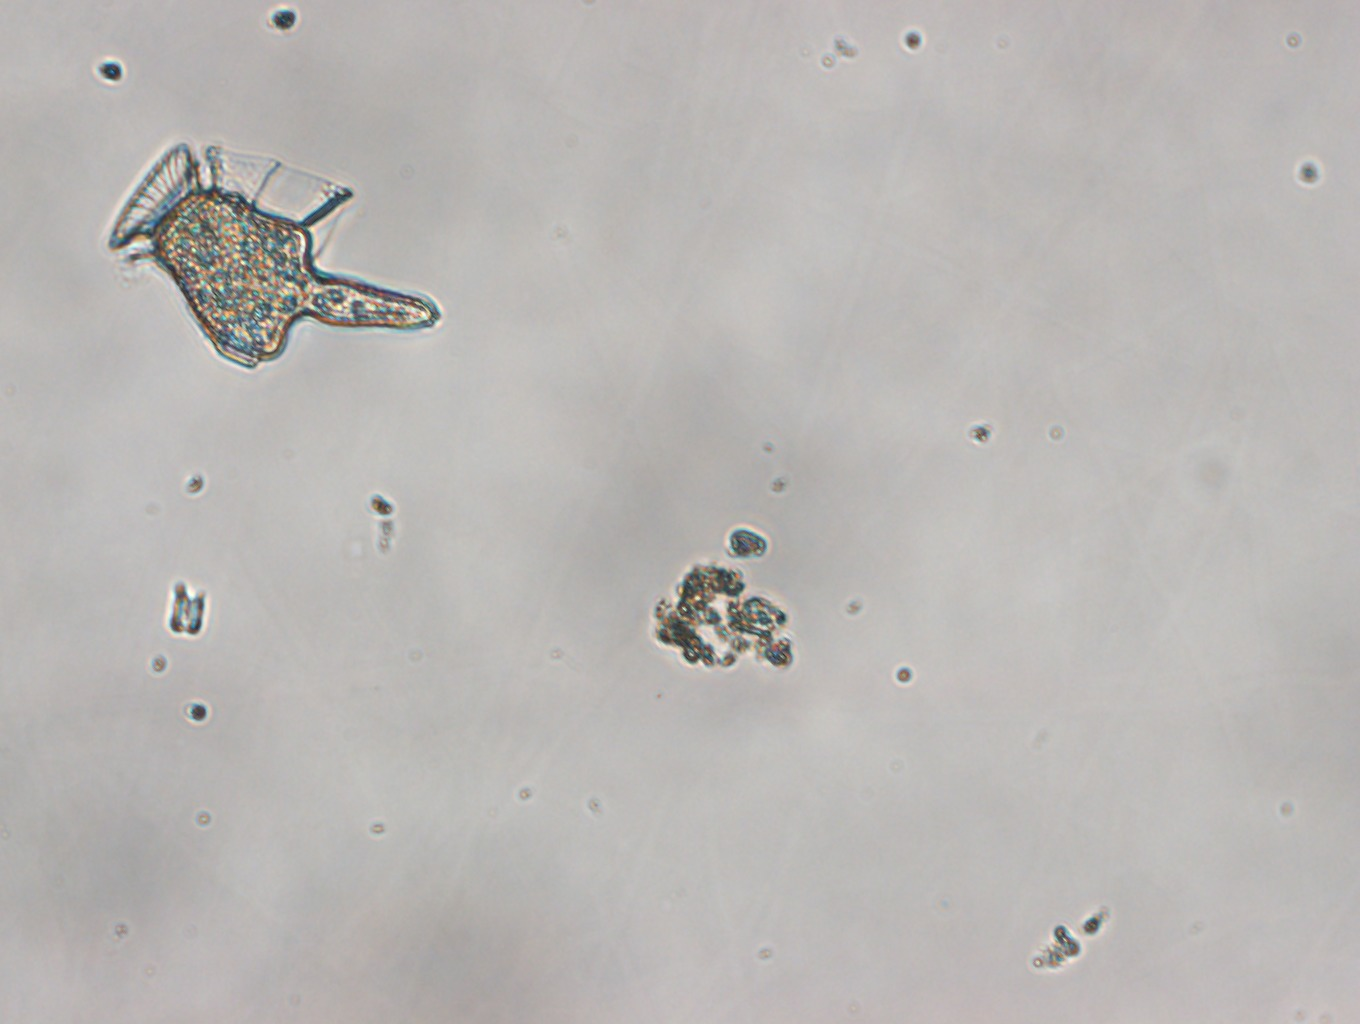dinophysis caudata: (105, 139, 443, 372)
